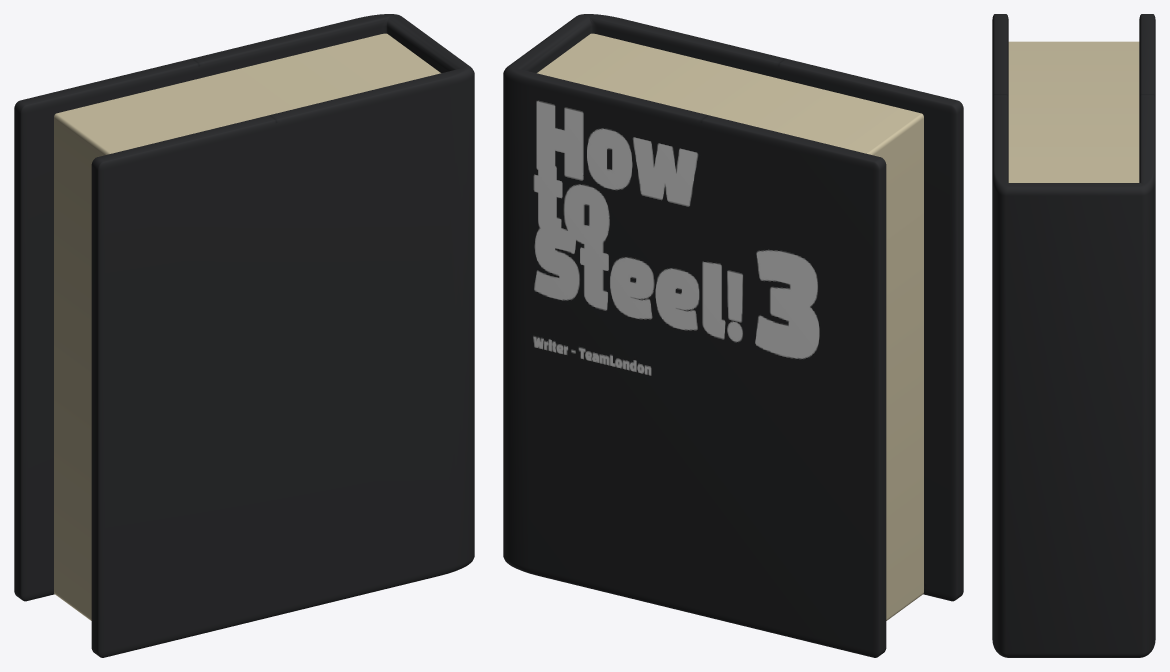
The model's file is Book3.fbx.
3 renders of one model, left to right at view 1: azimuth 30°, elevation 25°; view 2: azimuth 150°, elevation 25°; view 3: azimuth 270°, elevation 25°, orthographic. The views are drawn at different scales.
Visible parts, largest first — view 1: Cube; view 2: Cube; view 3: Cube.
Part boxes in pixels (x1,y1,x2,y2): Cube: [14, 14, 474, 657]; Cube: [503, 14, 963, 657]; Cube: [992, 14, 1155, 657].
Size of the model in its own units: 98.72 by 123 by 38.47.
